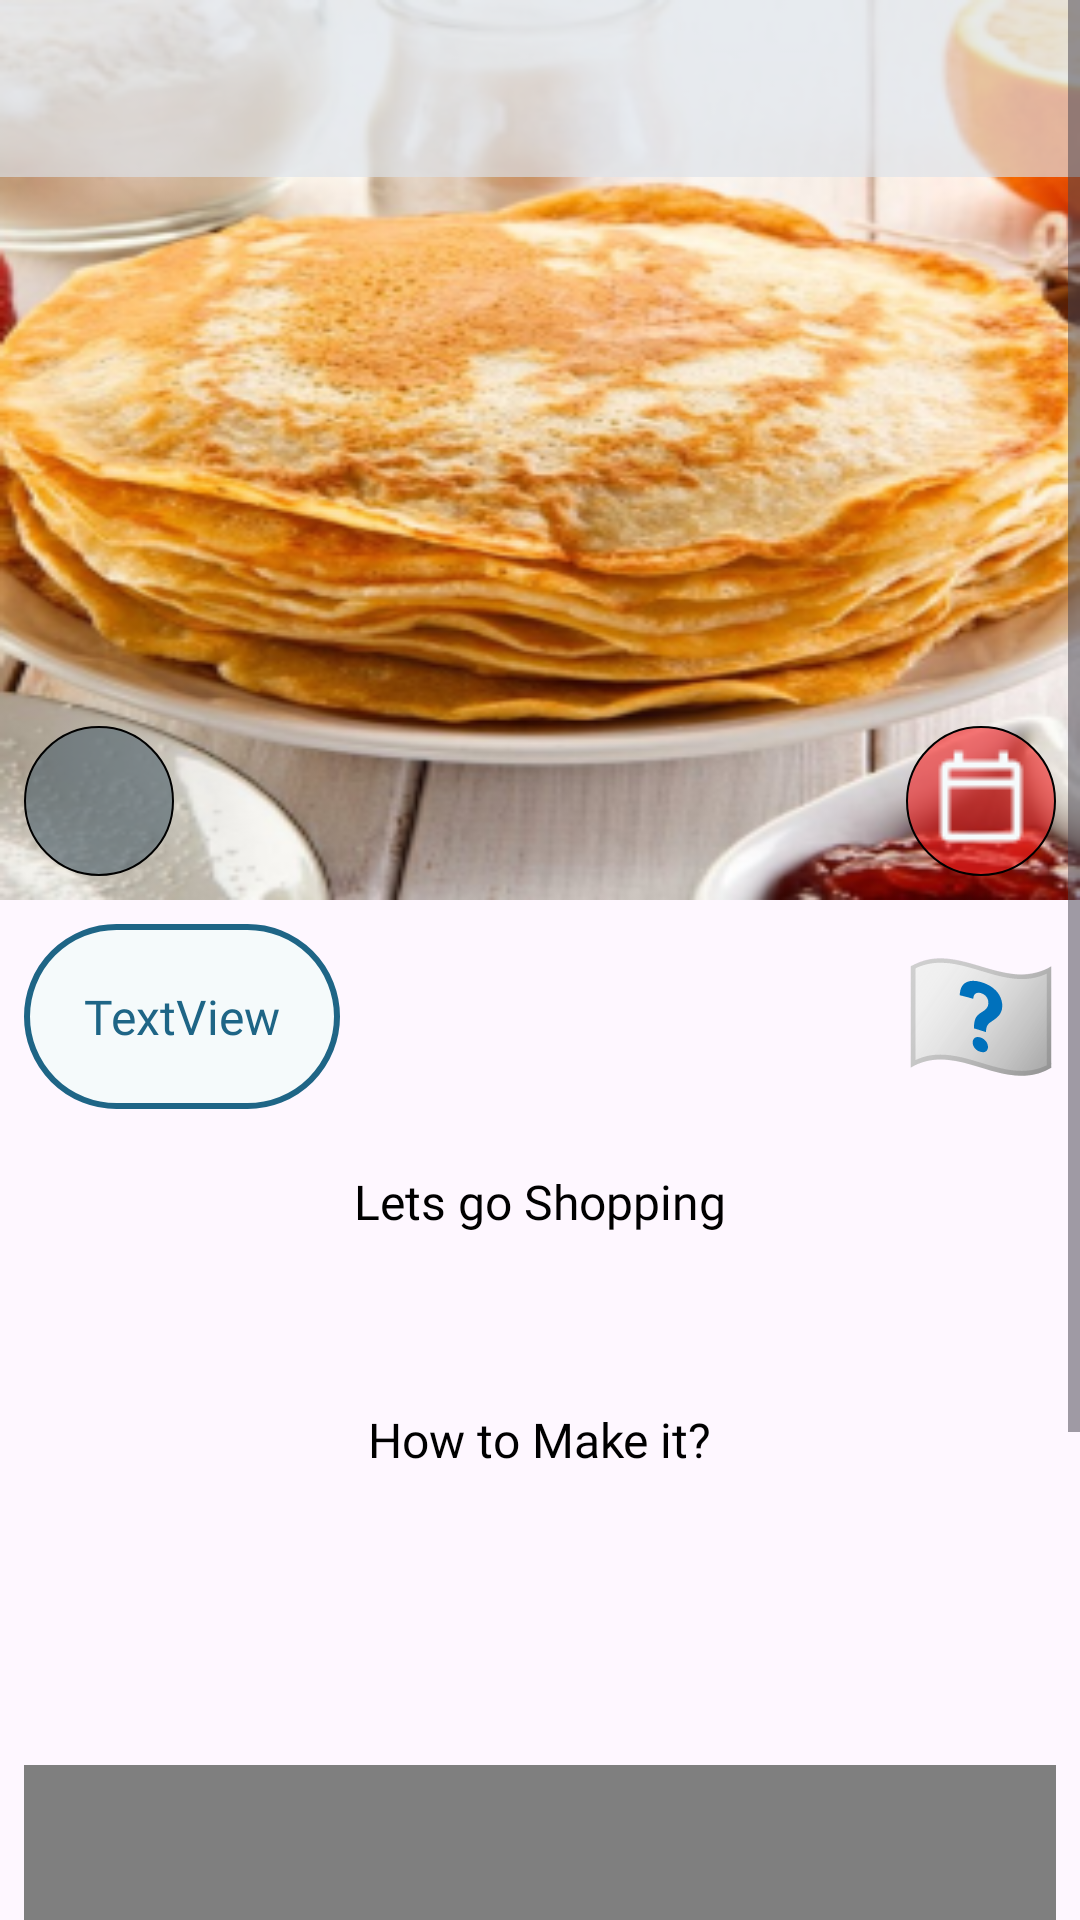

Where to tap for icons on this 1080×1920 app screen, as (x=x, y=y):
calendar: (x=981, y=801)
unknown flag: (x=981, y=1017)
